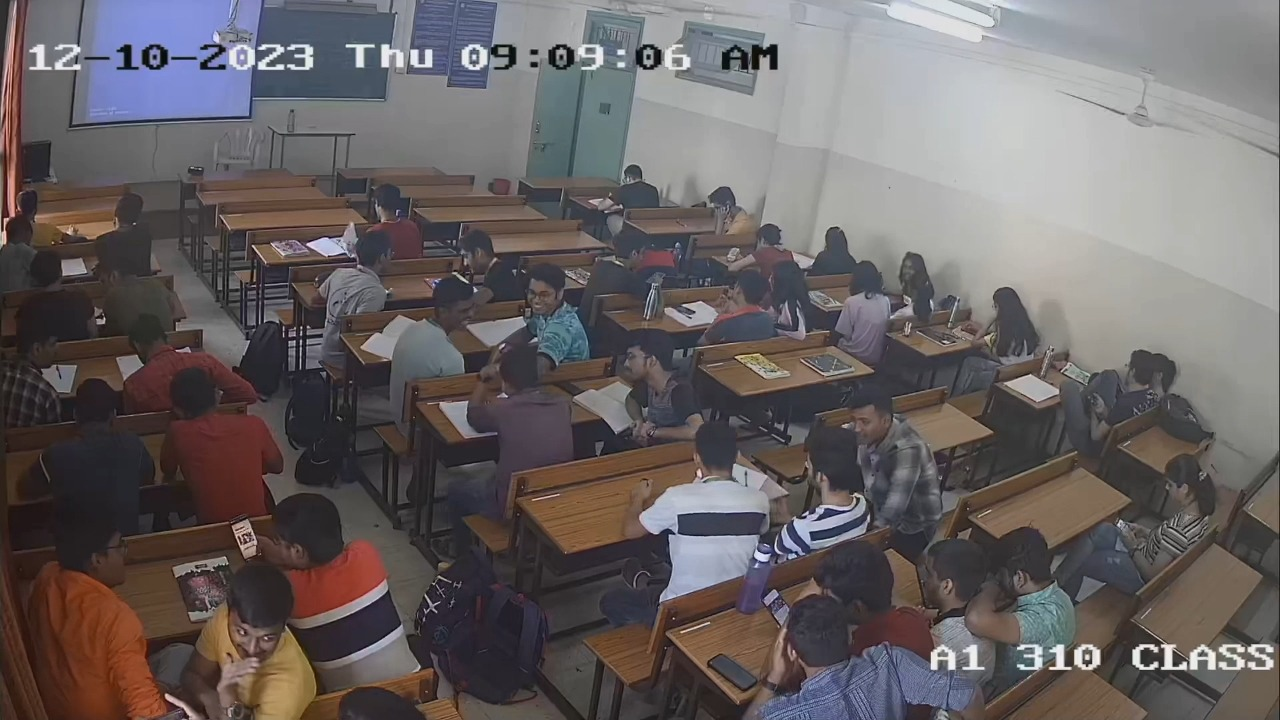cell-phones: (704, 649, 762, 692), (228, 514, 259, 560), (760, 588, 796, 625), (1110, 513, 1138, 540), (553, 378, 585, 399), (668, 302, 696, 319), (960, 326, 983, 338)
person: (267, 491, 424, 682), (740, 597, 980, 720), (808, 541, 940, 654), (607, 330, 710, 439), (1129, 454, 1217, 573), (976, 286, 1040, 382), (698, 270, 778, 346)
